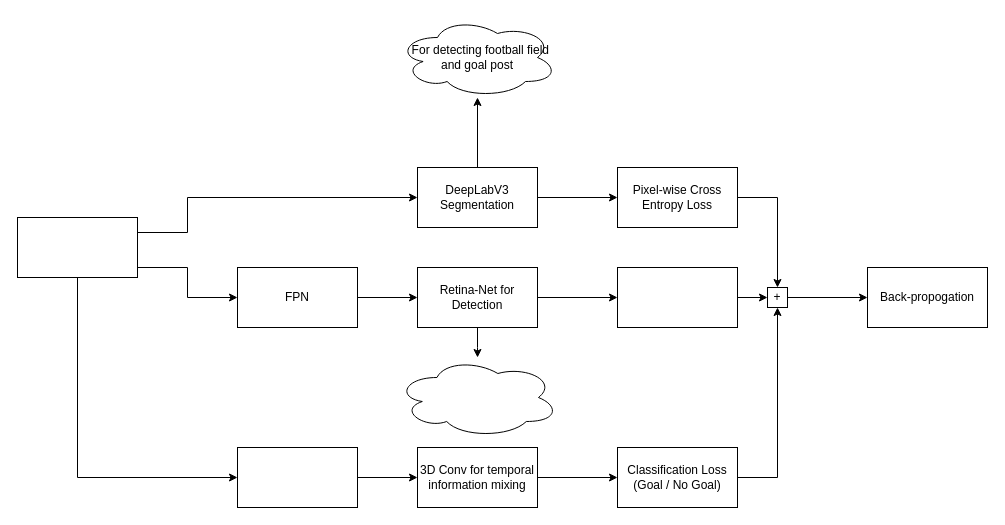
This 1005x525 diagram has some shape labels left out. The centre of each missing label's shape, as x and y in pixels:
Crop Goal Post Region: the point at 297,477
For Player and Football Detection: the point at 477,397
IoU loss + Classification Loss: the point at 677,297
Resnet50: the point at 77,247
